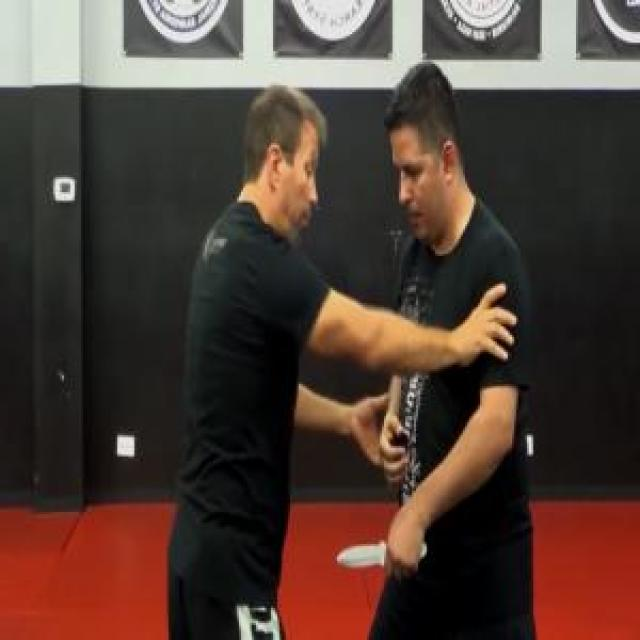knife: (328, 531, 431, 580)
